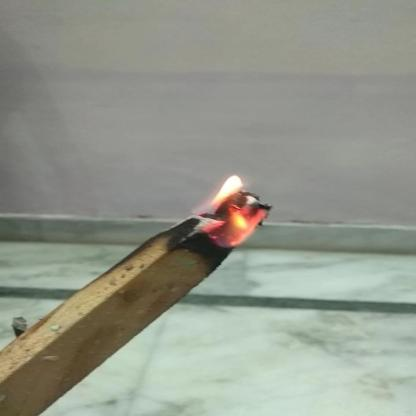fire: (194, 166, 277, 250)
